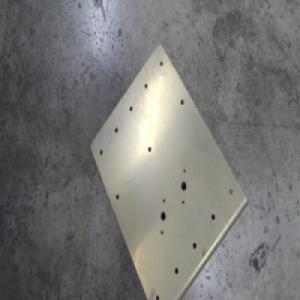MetalSheet: (89, 42, 249, 300)
